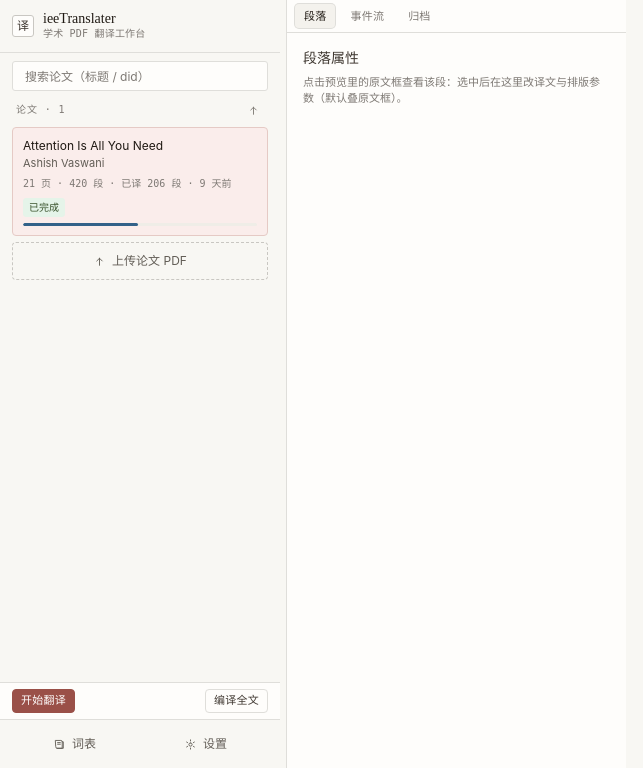
工作台（中栏预览 + 右栏检查器） › 操作区的「编译全文」提交失败：行内红字给可读原因（不静默）
The image size is (643, 768).
Click the button "编译全文".
click(237, 701)  # box 205,689 -> 268,713
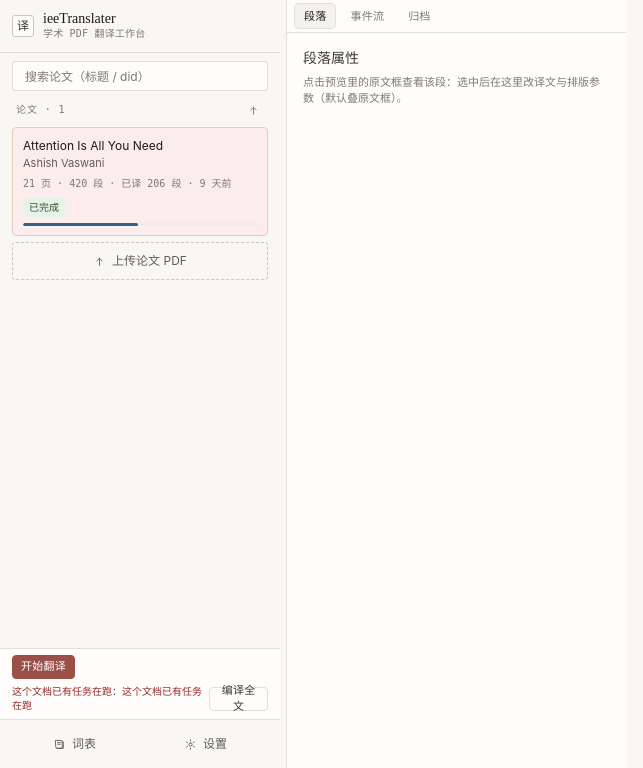
Now the text "这个文档已有任务在跑：这个文档已有任务在跑" is shown, box 12,685 -> 203,713
